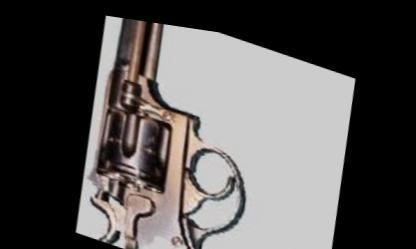pistol: (63, 7, 360, 247)
